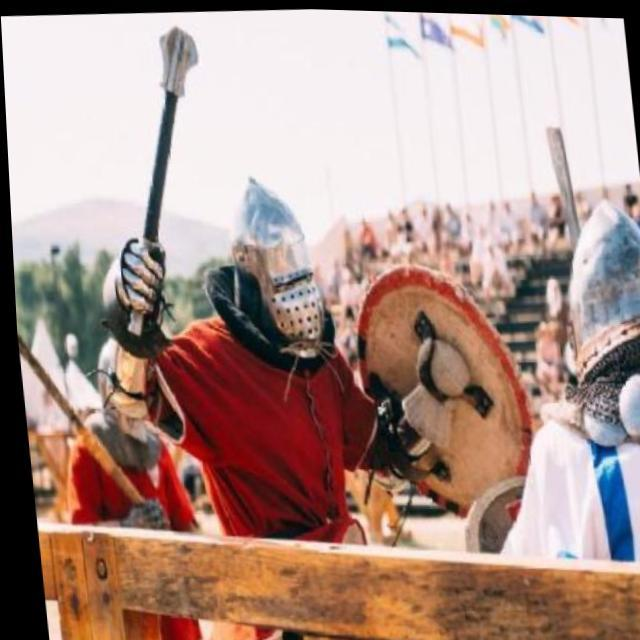weapon: (60, 31, 238, 428), (14, 323, 154, 532), (543, 120, 587, 252)
